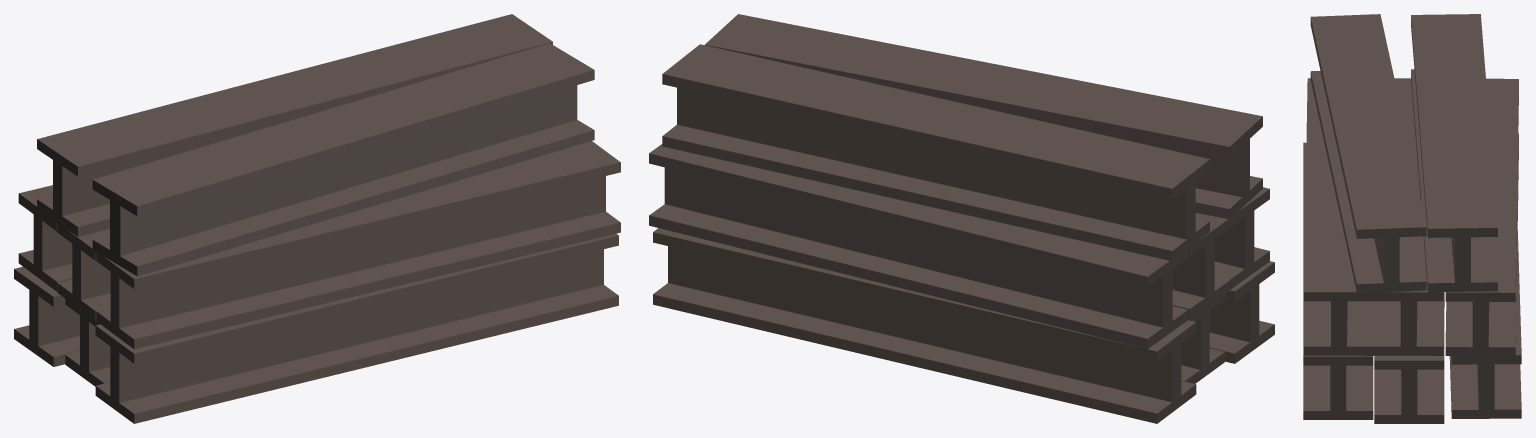
The model's file is BeamPile.glb.
3 renders of one model, left to right at view 1: azimuth 30°, elevation 25°; view 2: azimuth 150°, elevation 25°; view 3: azimuth 270°, elevation 25°, orthographic. The views are drawn at different scales.
Visible parts, largest first — view 1: beamPile; view 2: beamPile; view 3: beamPile.
Part boxes in pixels (left/top/right/bottom): beamPile: left=14, top=14, right=620, bottom=423; beamPile: left=649, top=14, right=1274, bottom=423; beamPile: left=1303, top=14, right=1521, bottom=423.
Bounding box in the file's own units: 1.81 × 0.7425 × 0.7637.
Materials: 1 (1 with a texture image).
